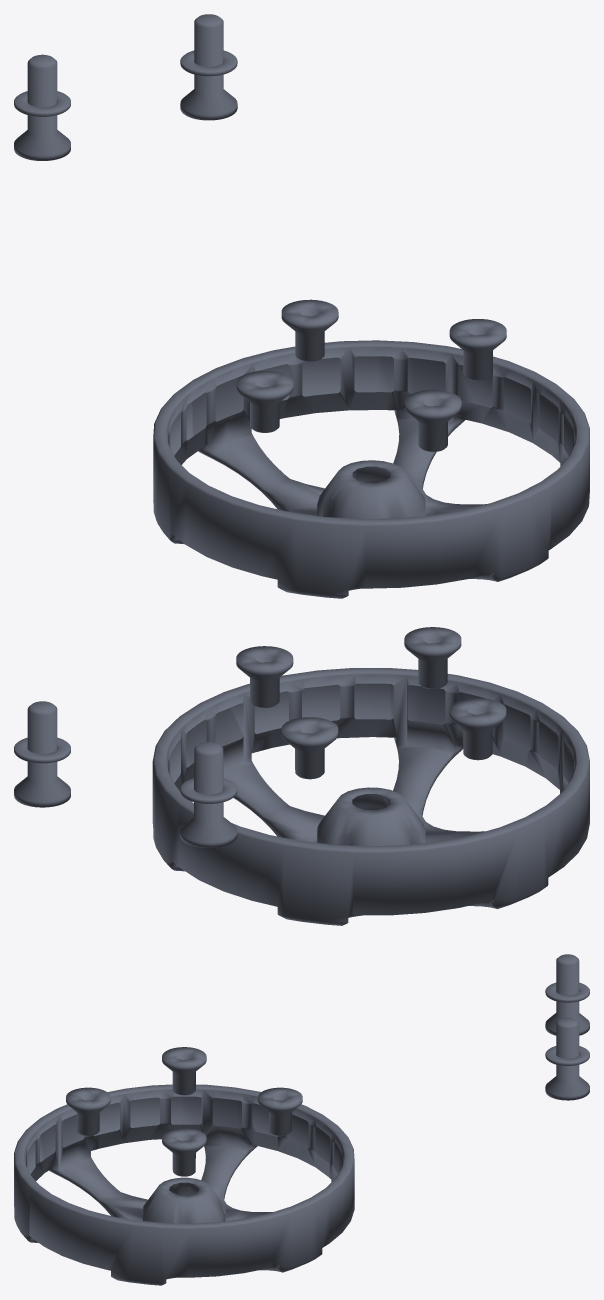
Rendered from solo_upper_leg_left_side_12.obj.
3 views of the same model, one above another, from view 1: azimuth 30°, elevation 25°; view 2: azimuth 150°, elevation 25°; view 3: azimuth 270°, elevation 25° (orthographic). The views are drawn at different scales.
Bounding box in the file's own units: 0.0444 × 0.0366 × 0.075.
